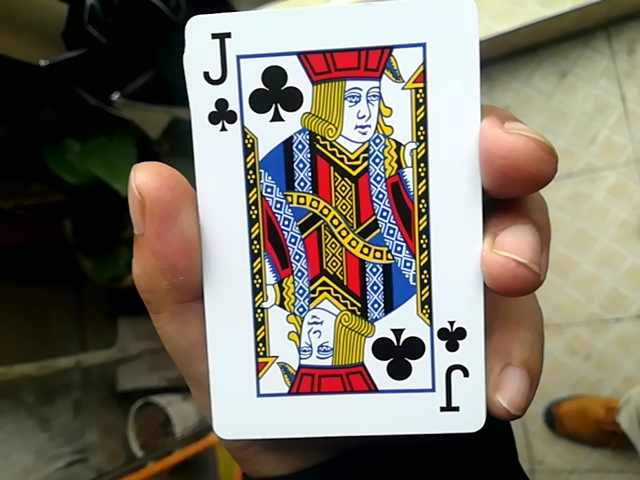mh j: (177, 1, 483, 430)
